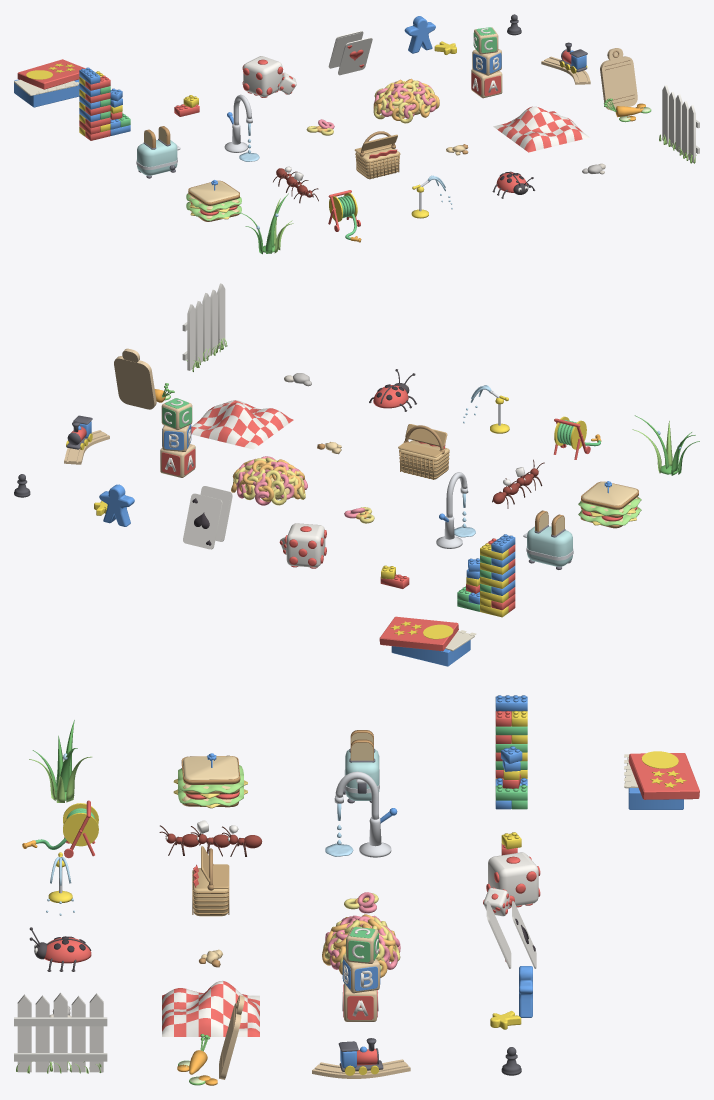
Rendered from RunwayWorld4Home.fbx.
The picture shows the model from 3 angles, top to bottom: view 1: azimuth 30°, elevation 25°; view 2: azimuth 150°, elevation 25°; view 3: azimuth 270°, elevation 25°; orthographic projection. The views are drawn at different scales.
Visible parts, largest first — view 1: FencePickets, BoardWood, BlanketWhite, BlanketRed, DieBody, BrickBlue, BrickRed, GameBoxLid, ToasterBody, CardFace, CerealHeapA, CerealHeapC (+19 smaller); view 2: FencePickets, BoardWood, BlanketWhite, BlanketRed, CardFace, GameBoxLid, BrickYellow, ToasterBody, DieBody, BrickBlue, CerealHeapA, CerealHeapC (+13 smaller); view 3: FencePickets, BlanketWhite, BlanketRed, DieBody, GameBoxLid, FenceRails, FaucetChrome, SandwichBread, BrickGreen, BrickBlue, BlockWood, SandwichLettuce (+25 smaller).
Part boxes in pixels (left/top/right/bottom): FencePickets: left=662, top=85, right=695, bottom=162; BoardWood: left=600, top=48, right=637, bottom=110; BlanketWhite: left=493, top=106, right=589, bottom=150; BlanketRed: left=497, top=106, right=582, bottom=152; DieBody: left=243, top=56, right=296, bottom=97; BrickBlue: left=79, top=67, right=130, bottom=135; BrickRed: left=79, top=75, right=122, bottom=140; GameBoxLid: left=17, top=59, right=85, bottom=89; ToasterBody: left=137, top=140, right=177, bottom=175; CardFace: left=328, top=30, right=372, bottom=75; CerealHeapA: left=373, top=78, right=439, bottom=120; CerealHeapC: left=373, top=80, right=437, bottom=123; FencePickets: left=187, top=283, right=225, bottom=370; BoardWood: left=114, top=348, right=156, bottom=409; BlanketWhite: left=192, top=400, right=288, bottom=449; BlanketRed: left=191, top=400, right=293, bottom=446; CardFace: left=183, top=486, right=232, bottom=549; GameBoxLid: left=379, top=616, right=458, bottom=651; BrickYellow: left=466, top=543, right=508, bottom=617; ToasterBody: left=527, top=526, right=572, bottom=566; DieBody: left=280, top=523, right=325, bottom=567; BrickBlue: left=466, top=534, right=515, bottom=604; CerealHeapA: left=231, top=458, right=304, bottom=501; CerealHeapC: left=233, top=457, right=305, bottom=505; FencePickets: left=17, top=992, right=103, bottom=1072; BlanketWhite: left=162, top=980, right=259, bottom=1036; BlanketRed: left=162, top=981, right=259, bottom=1036; DieBody: left=483, top=852, right=538, bottom=916; GameBoxLid: left=628, top=753, right=699, bottom=799; FenceRails: left=14, top=1017, right=107, bottom=1061; FaucetChrome: left=334, top=771, right=391, bottom=857; SandwichBread: left=182, top=756, right=238, bottom=801; BrickGreen: left=495, top=726, right=527, bottom=809; BrickBlue: left=495, top=695, right=527, bottom=809; BlockWood: left=343, top=927, right=379, bottom=1021; SandwichLettuce: left=178, top=765, right=243, bottom=806.
Size of the model in its own units: 14744 by 1934 by 13688.
